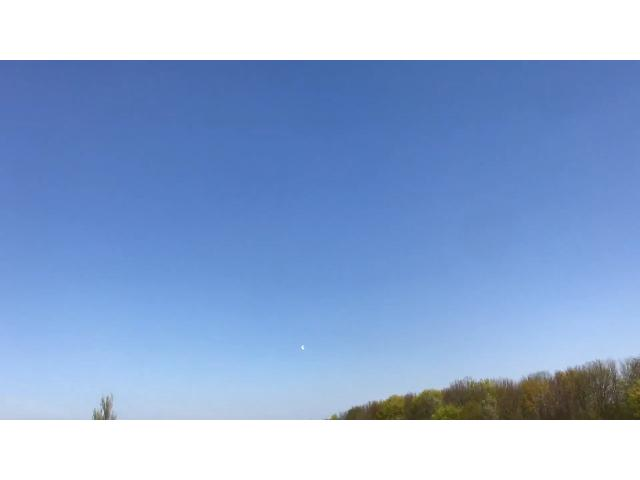Anti-Drone: (294, 340, 308, 356)
